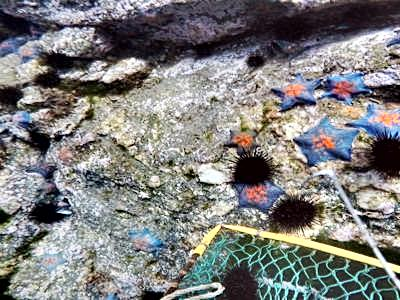urchin: (272, 196, 317, 228), (232, 154, 269, 181), (373, 131, 395, 170), (226, 267, 257, 294), (275, 18, 307, 38), (50, 54, 71, 69), (37, 72, 56, 88), (1, 85, 19, 101), (248, 53, 267, 67)
